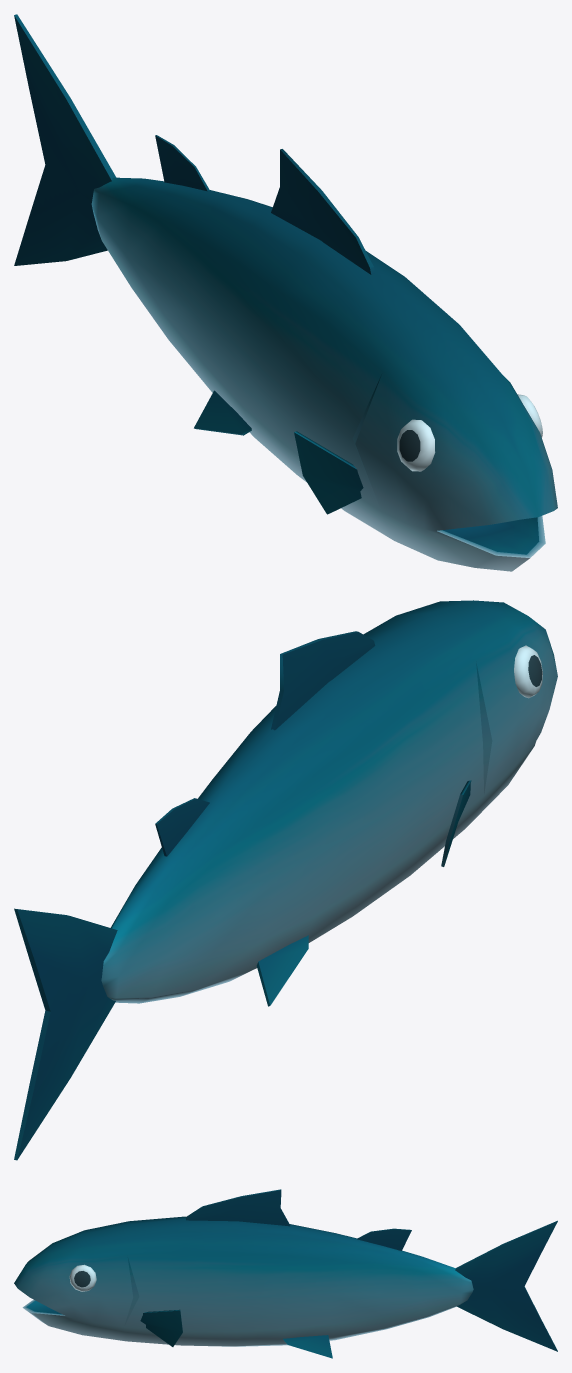
File: fish.fbx
The picture shows the model from 3 angles, top to bottom: view 1: azimuth 30°, elevation 25°; view 2: azimuth 150°, elevation 25°; view 3: azimuth 270°, elevation 25°; orthographic projection. The views are drawn at different scales.
Visible parts, largest first — view 1: fish; view 2: fish; view 3: fish.
Part boxes in pixels (left/top/right/bottom): fish: left=14, top=14, right=557, bottom=571; fish: left=14, top=600, right=557, bottom=1160; fish: left=14, top=1189, right=557, bottom=1358.
Size of the model in its own units: 7.71 by 13.55 by 41.27.
